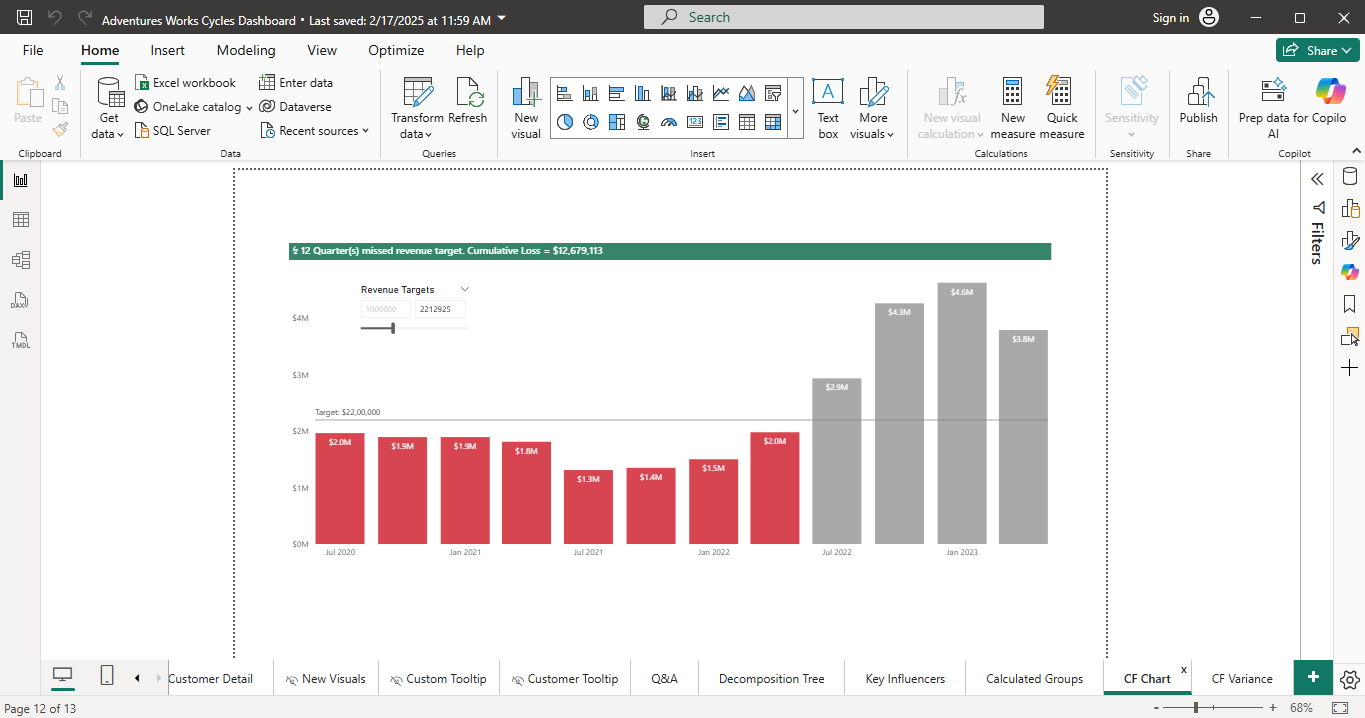

The page's visual inventory and layout, read from the dashboard file:
{"tool":"powerbi","page":{"name":"CF Chart","canvas":[1280,720],"ordinal":11},"visuals":[{"type":"columnChart","fields":{"Category":["Dim Date.Start of Quarter"],"Y":["Measures Table.Total Revenue"]},"box":[79,106.8,1121,472.7],"z":0,"group":"g1"},{"type":"slicer","fields":{"Values":["Revenue Targets.Revenue Targets"]},"box":[171.6,162.7,185.1,92.5],"z":1000,"group":"g1"},{"type":"group","id":"g1","title":"Group 1","box":[79,106.8,1121,472.7],"z":1001}]}

Visuals, with their boxes on the page's 1280x720 design canvas (x1, y1, x2, y2). These are canvas units, not pixel positions in the 1365x718 screenshot, which may show the page scaled, cropped or inside an application window:
columnChart - Dim Date.Start of Quarter x Measures Table.Total Revenue: <bbox>79, 107, 1200, 580</bbox>
slicer - Revenue Targets.Revenue Targets: <bbox>172, 163, 357, 255</bbox>
"Group 1" group: <bbox>79, 107, 1200, 580</bbox>
